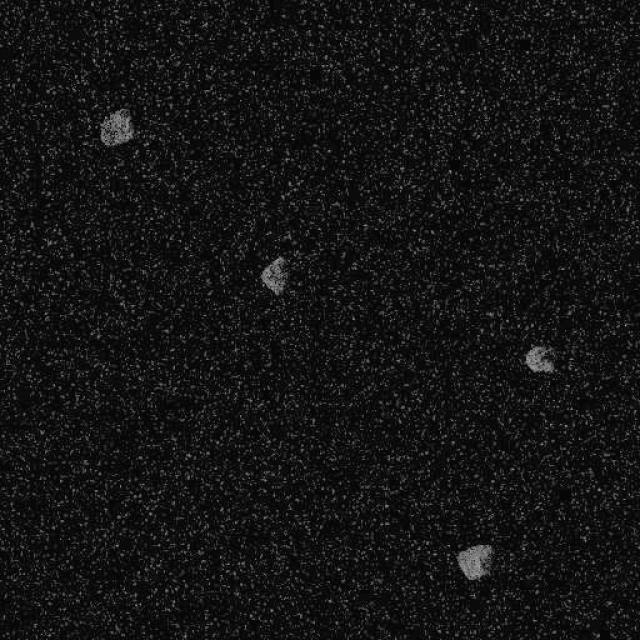D2: (97, 106, 135, 148), (455, 542, 493, 582), (258, 255, 288, 296), (524, 344, 555, 374)
